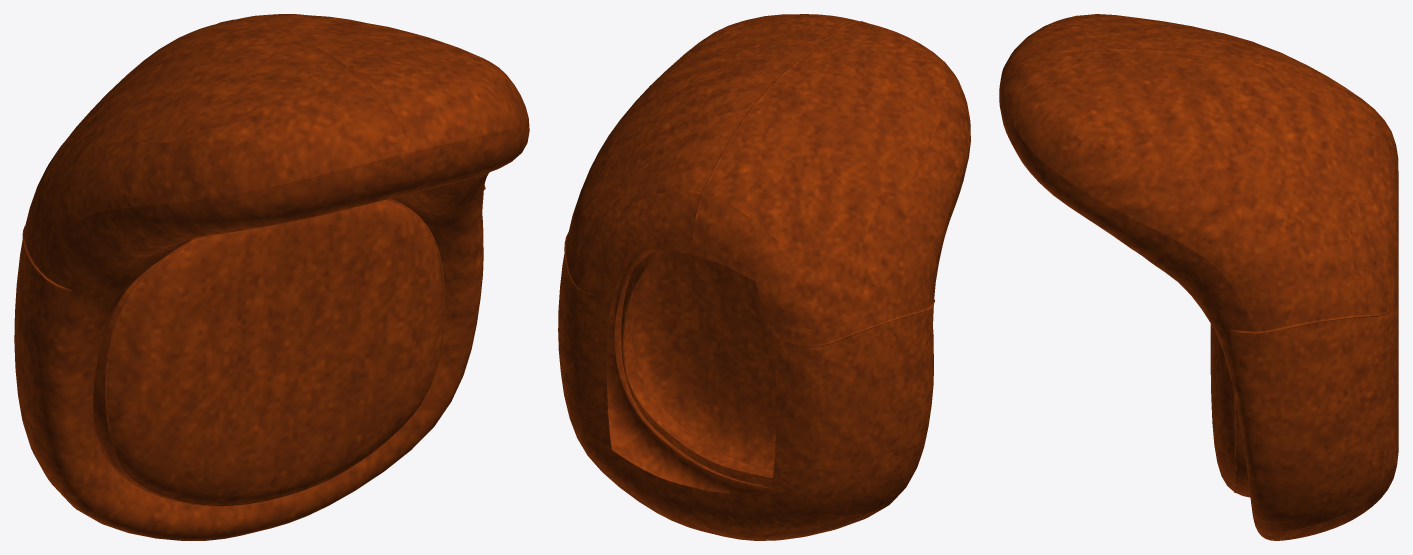
The model's file is SM_Sessel.obj.
3 renders of one model, left to right at view 1: azimuth 30°, elevation 25°; view 2: azimuth 150°, elevation 25°; view 3: azimuth 270°, elevation 25°, orthographic. The views are drawn at different scales.
Parts seen in each view (by area): view 1: SM_Sessel; view 2: SM_Sessel; view 3: SM_Sessel.
Boxes of the visible parts, x1,y1,x2,y2 form: SM_Sessel: (14, 14, 529, 540); SM_Sessel: (558, 14, 970, 540); SM_Sessel: (999, 14, 1398, 540).
Size of the model in its own units: 0.7914 by 0.916 by 0.7127.
Materials: 1 (1 with a texture image).
